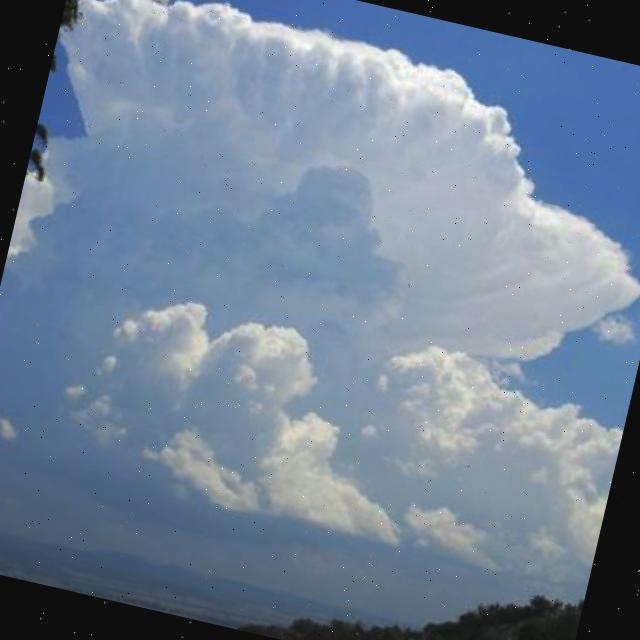Cb: (1, 1, 640, 592)
